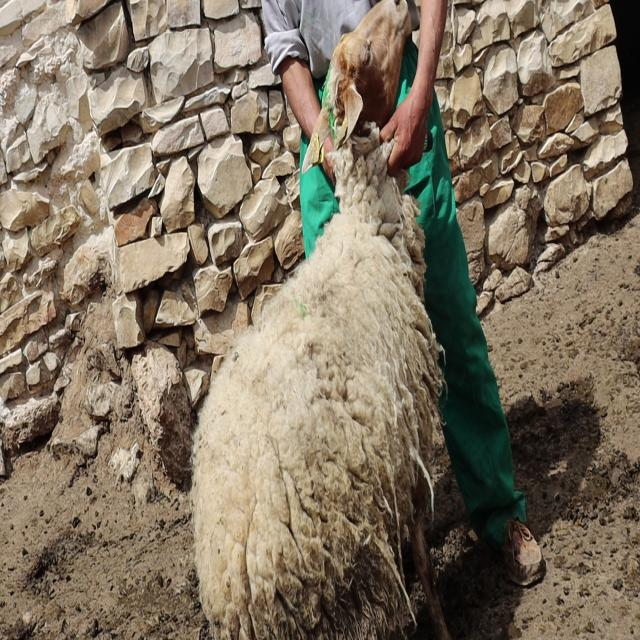Score_2: (191, 0, 449, 639)
